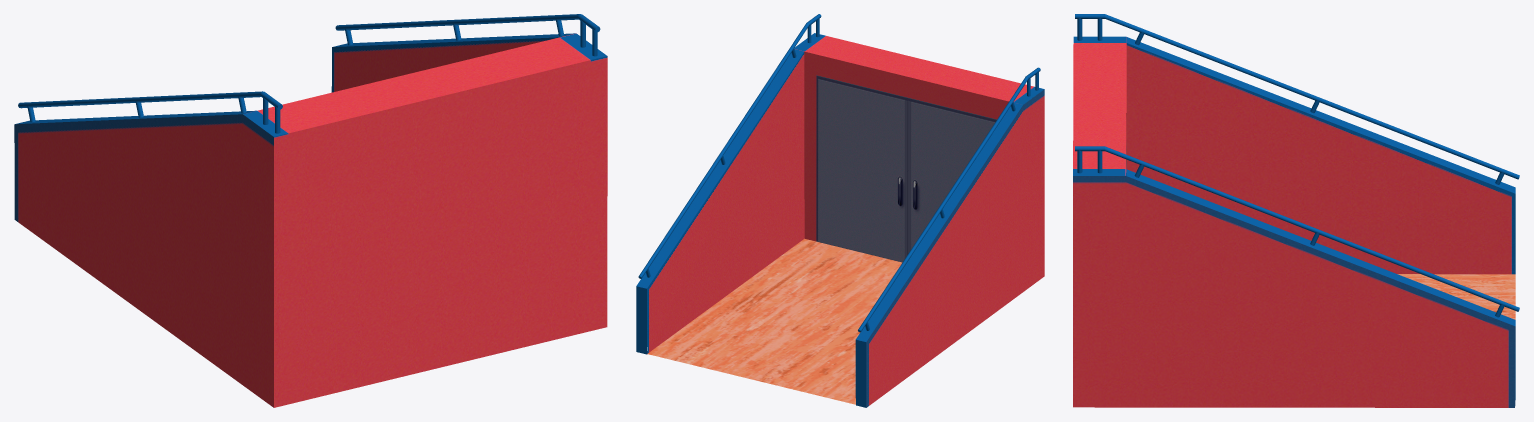
Rendered from Exit_05_Ufa.FBX.
3 views of the same model, side by side, from view 1: azimuth 30°, elevation 25°; view 2: azimuth 150°, elevation 25°; view 3: azimuth 270°, elevation 25° (orthographic). The views are drawn at different scales.
Parts seen in each view (by area): view 1: Exit_05_Ufa; view 2: Exit_05_Ufa; view 3: Exit_05_Ufa.
Part boxes in pixels (x1,y1,x2,y2): Exit_05_Ufa: [14, 14, 607, 407]; Exit_05_Ufa: [636, 14, 1044, 407]; Exit_05_Ufa: [1073, 14, 1519, 407].
Size of the model in its own units: 2.72 by 2.36 by 3.7.
Materials: 1 (1 with a texture image).
